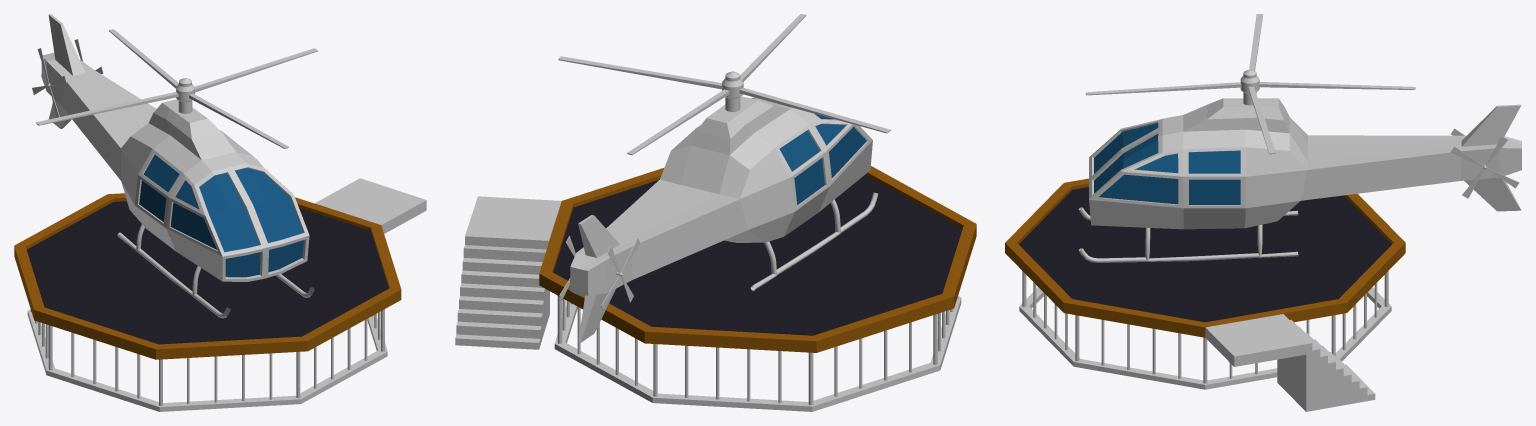
Rendered from copter_000005.obj.
The picture shows the model from 3 angles, left to right: view 1: azimuth 30°, elevation 25°; view 2: azimuth 150°, elevation 25°; view 3: azimuth 270°, elevation 25°; orthographic projection. The views are drawn at different scales.
Parts seen in each view (by area): view 1: Cylinder.001_Cylinder.012, Helicopter.007_Cylinder.008, Helicopter.001_Cylinder.001, Cylinder.004, Cylinder.003_Cylinder.005, Cylinder.002, Helicopter.004_Cylinder.005; view 2: Cylinder.001_Cylinder.012, Helicopter.007_Cylinder.008, Helicopter.001_Cylinder.001, Cylinder.004, Cylinder.003_Cylinder.005, Cylinder.002, Helicopter.004_Cylinder.005; view 3: Cylinder.001_Cylinder.012, Helicopter.007_Cylinder.008, Helicopter.001_Cylinder.001, Cylinder.004, Cylinder.002, Cylinder.003_Cylinder.005, Helicopter.003_Cylinder.004.
Boxes of the visible parts, box(x1,y1,x2,y2) form: Cylinder.001_Cylinder.012: box(14, 178, 426, 411); Helicopter.007_Cylinder.008: box(41, 14, 314, 318); Helicopter.001_Cylinder.001: box(36, 29, 317, 148); Cylinder.004: box(187, 319, 367, 404); Cylinder.003_Cylinder.005: box(35, 311, 380, 398); Cylinder.002: box(30, 309, 384, 405); Helicopter.004_Cylinder.005: box(32, 48, 66, 122); Cylinder.001_Cylinder.012: box(455, 166, 976, 411); Helicopter.007_Cylinder.008: box(570, 96, 878, 342); Helicopter.001_Cylinder.001: box(558, 14, 890, 155); Cylinder.004: box(577, 307, 781, 403); Cylinder.003_Cylinder.005: box(562, 298, 953, 396); Cylinder.002: box(557, 296, 958, 405); Helicopter.004_Cylinder.005: box(601, 238, 640, 310); Cylinder.001_Cylinder.012: box(1005, 178, 1405, 411); Helicopter.007_Cylinder.008: box(1078, 98, 1521, 262); Helicopter.001_Cylinder.001: box(1085, 14, 1415, 154); Cylinder.004: box(1033, 282, 1377, 350); Cylinder.002: box(1022, 271, 1388, 383); Cylinder.003_Cylinder.005: box(1101, 319, 1309, 378); Helicopter.003_Cylinder.004: box(1450, 136, 1519, 198).
Bounding box in the file's own units: 7.94 × 4.49 × 8.73.
